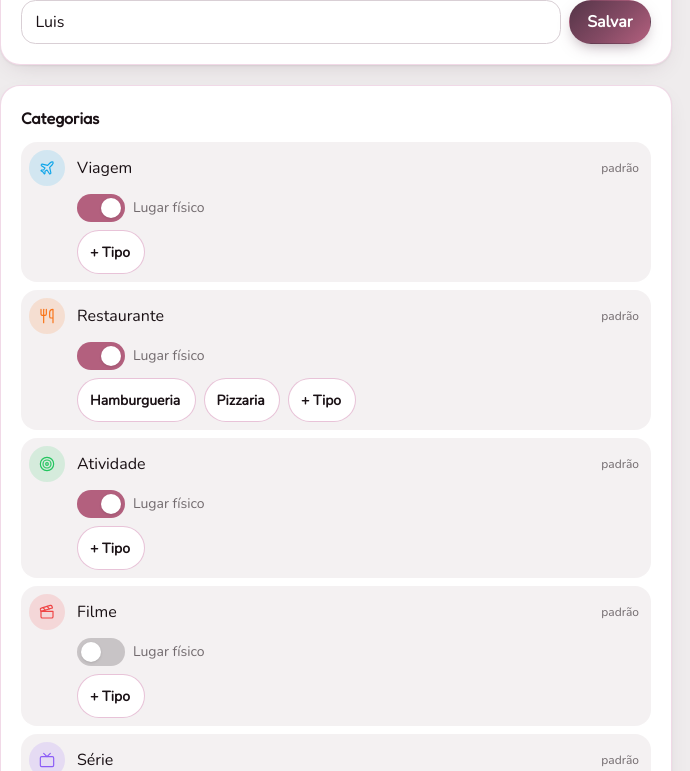
it: the type editor gives the name its own full row and shows its errors right there
(page scrolled)
Click the button with aria-label "Editar tipo Pizzaria": (242, 400) x1=204 y1=378 x2=280 y2=422
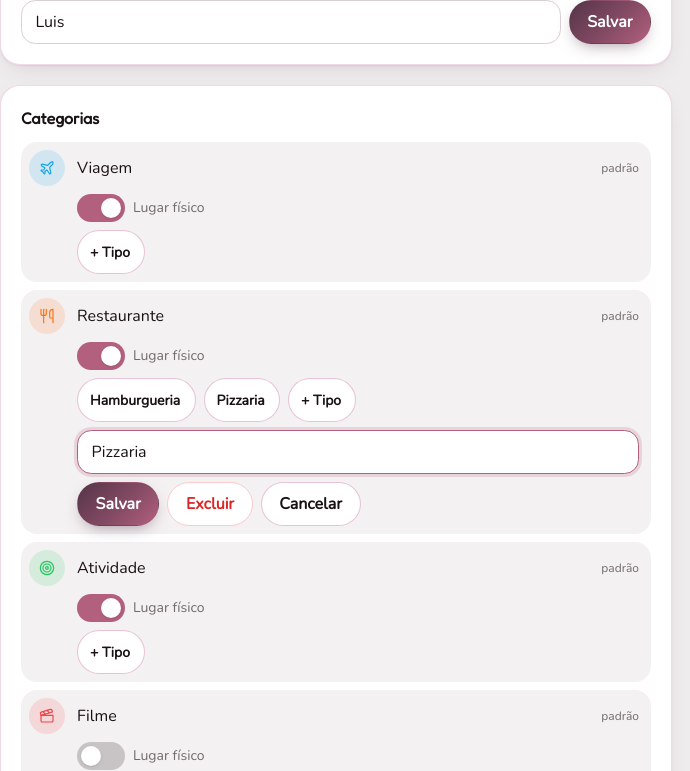
Replace the text in the field named "Nome do tipo em Restaurante" with "Hamburgueria": (358, 452) x1=77 y1=430 x2=639 y2=474
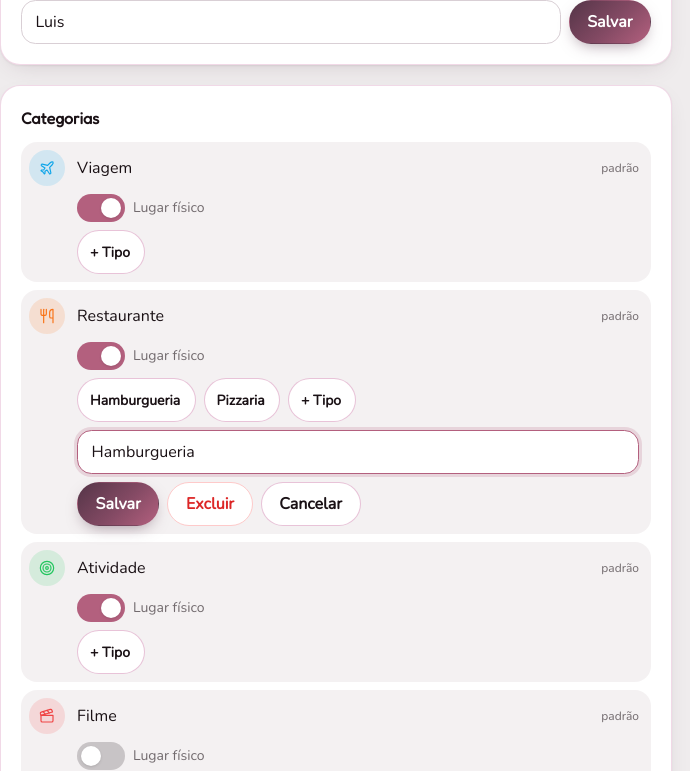
Click the button "Salvar" below "Restaurante": (118, 504) x1=77 y1=482 x2=159 y2=526
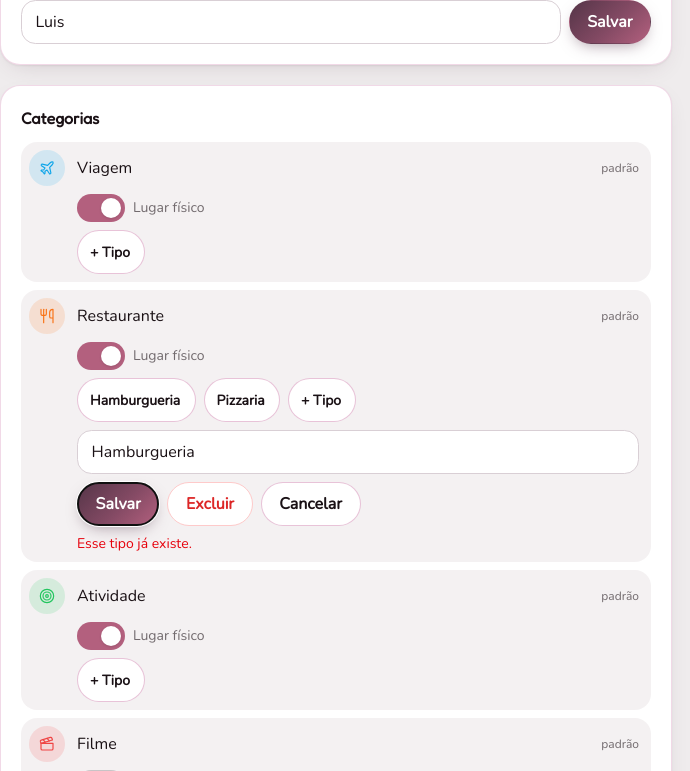
Expected: the message reads "Esse tipo já existe.", x1=77 y1=534 x2=192 y2=553
